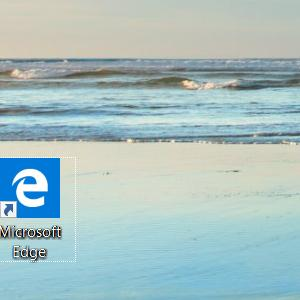edge: (1, 158, 60, 219)
